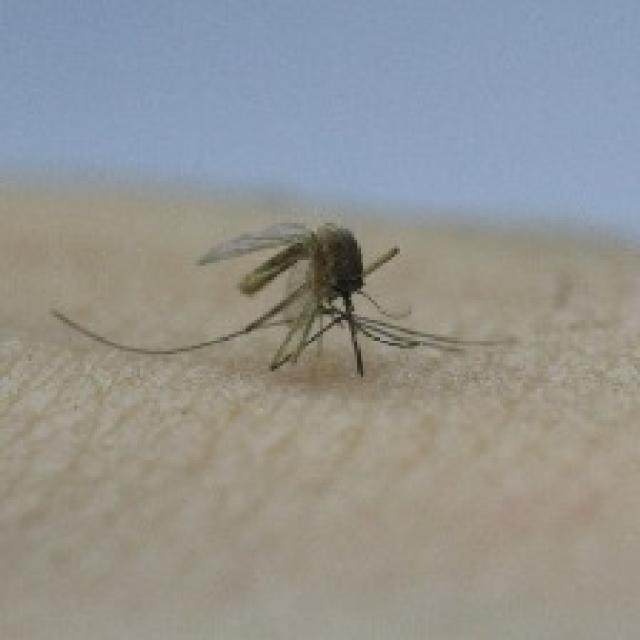culex: (49, 217, 517, 377)
